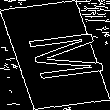M_E: (7, 27, 103, 83)
